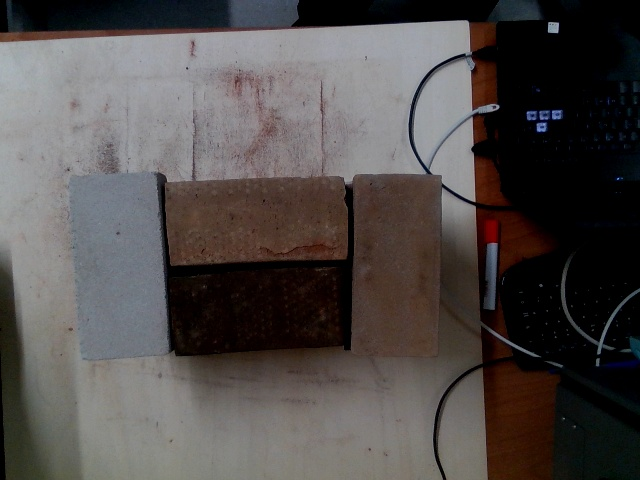brick: (71, 172, 166, 360), (352, 174, 440, 354), (168, 176, 343, 265), (168, 268, 342, 353)
